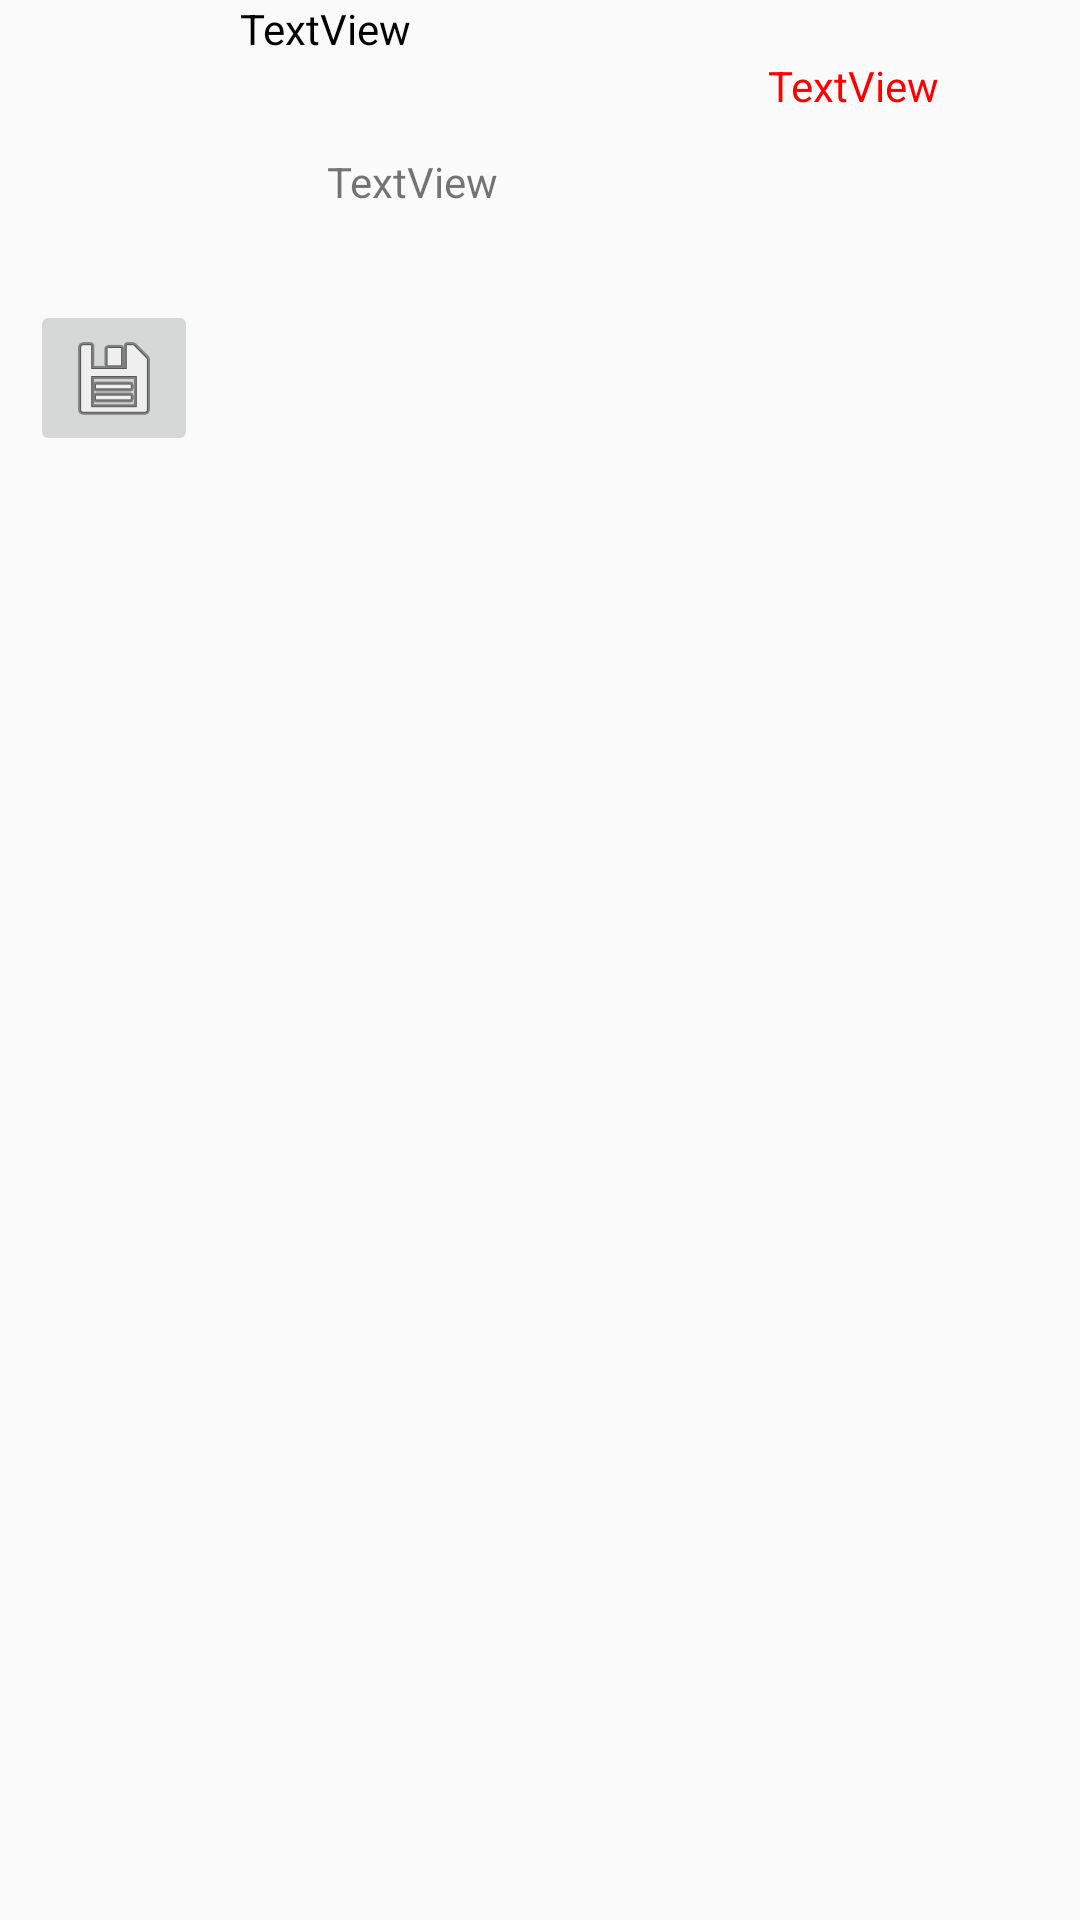

Locate icon controls on the screen. Image size 1080 x 1920, boxes as bbox=[x1, y1, x2, y2].
save: bbox=[42, 318, 186, 438]
